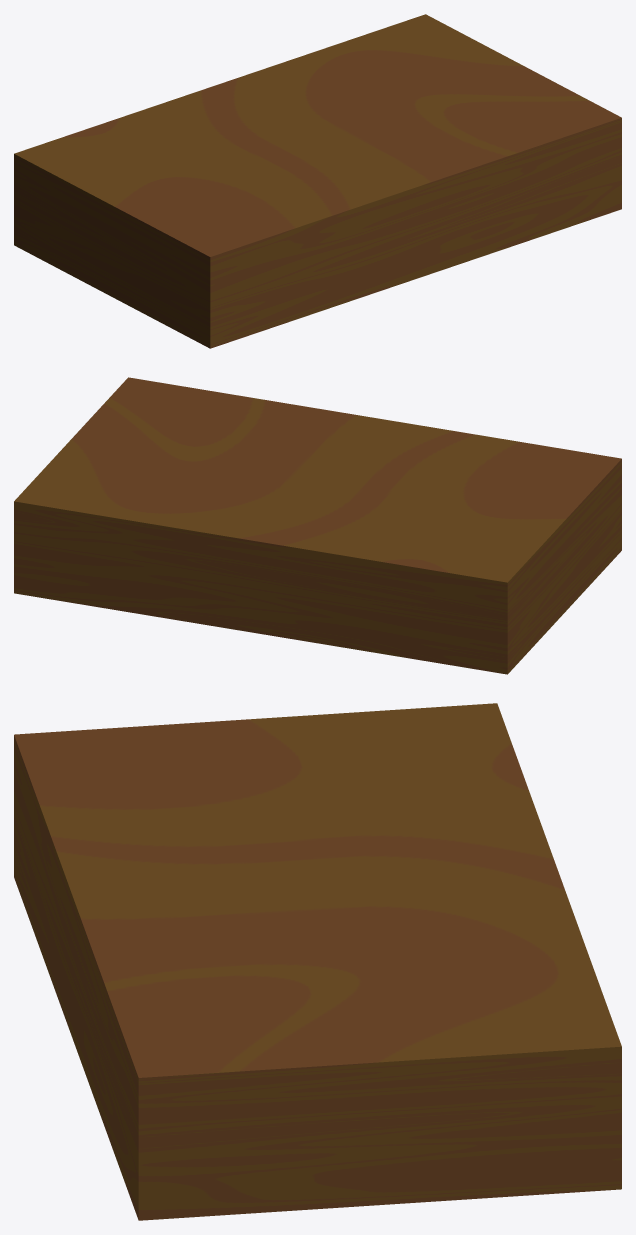
The model's file is ShortPlank.glb.
3 renders of one model, top to bottom at view 1: azimuth 30°, elevation 25°; view 2: azimuth 150°, elevation 25°; view 3: azimuth 270°, elevation 25°, orthographic. The views are drawn at different scales.
Visible parts, largest first — view 1: Plank.2; view 2: Plank.2; view 3: Plank.2.
Boxes of the visible parts, x1,y1,x2,y2 form: Plank.2: [14, 14, 621, 348]; Plank.2: [14, 377, 621, 674]; Plank.2: [14, 703, 621, 1220].
Size of the model in its own units: 1.77 by 0.315 by 1.22.
1 material, 1 textured.
